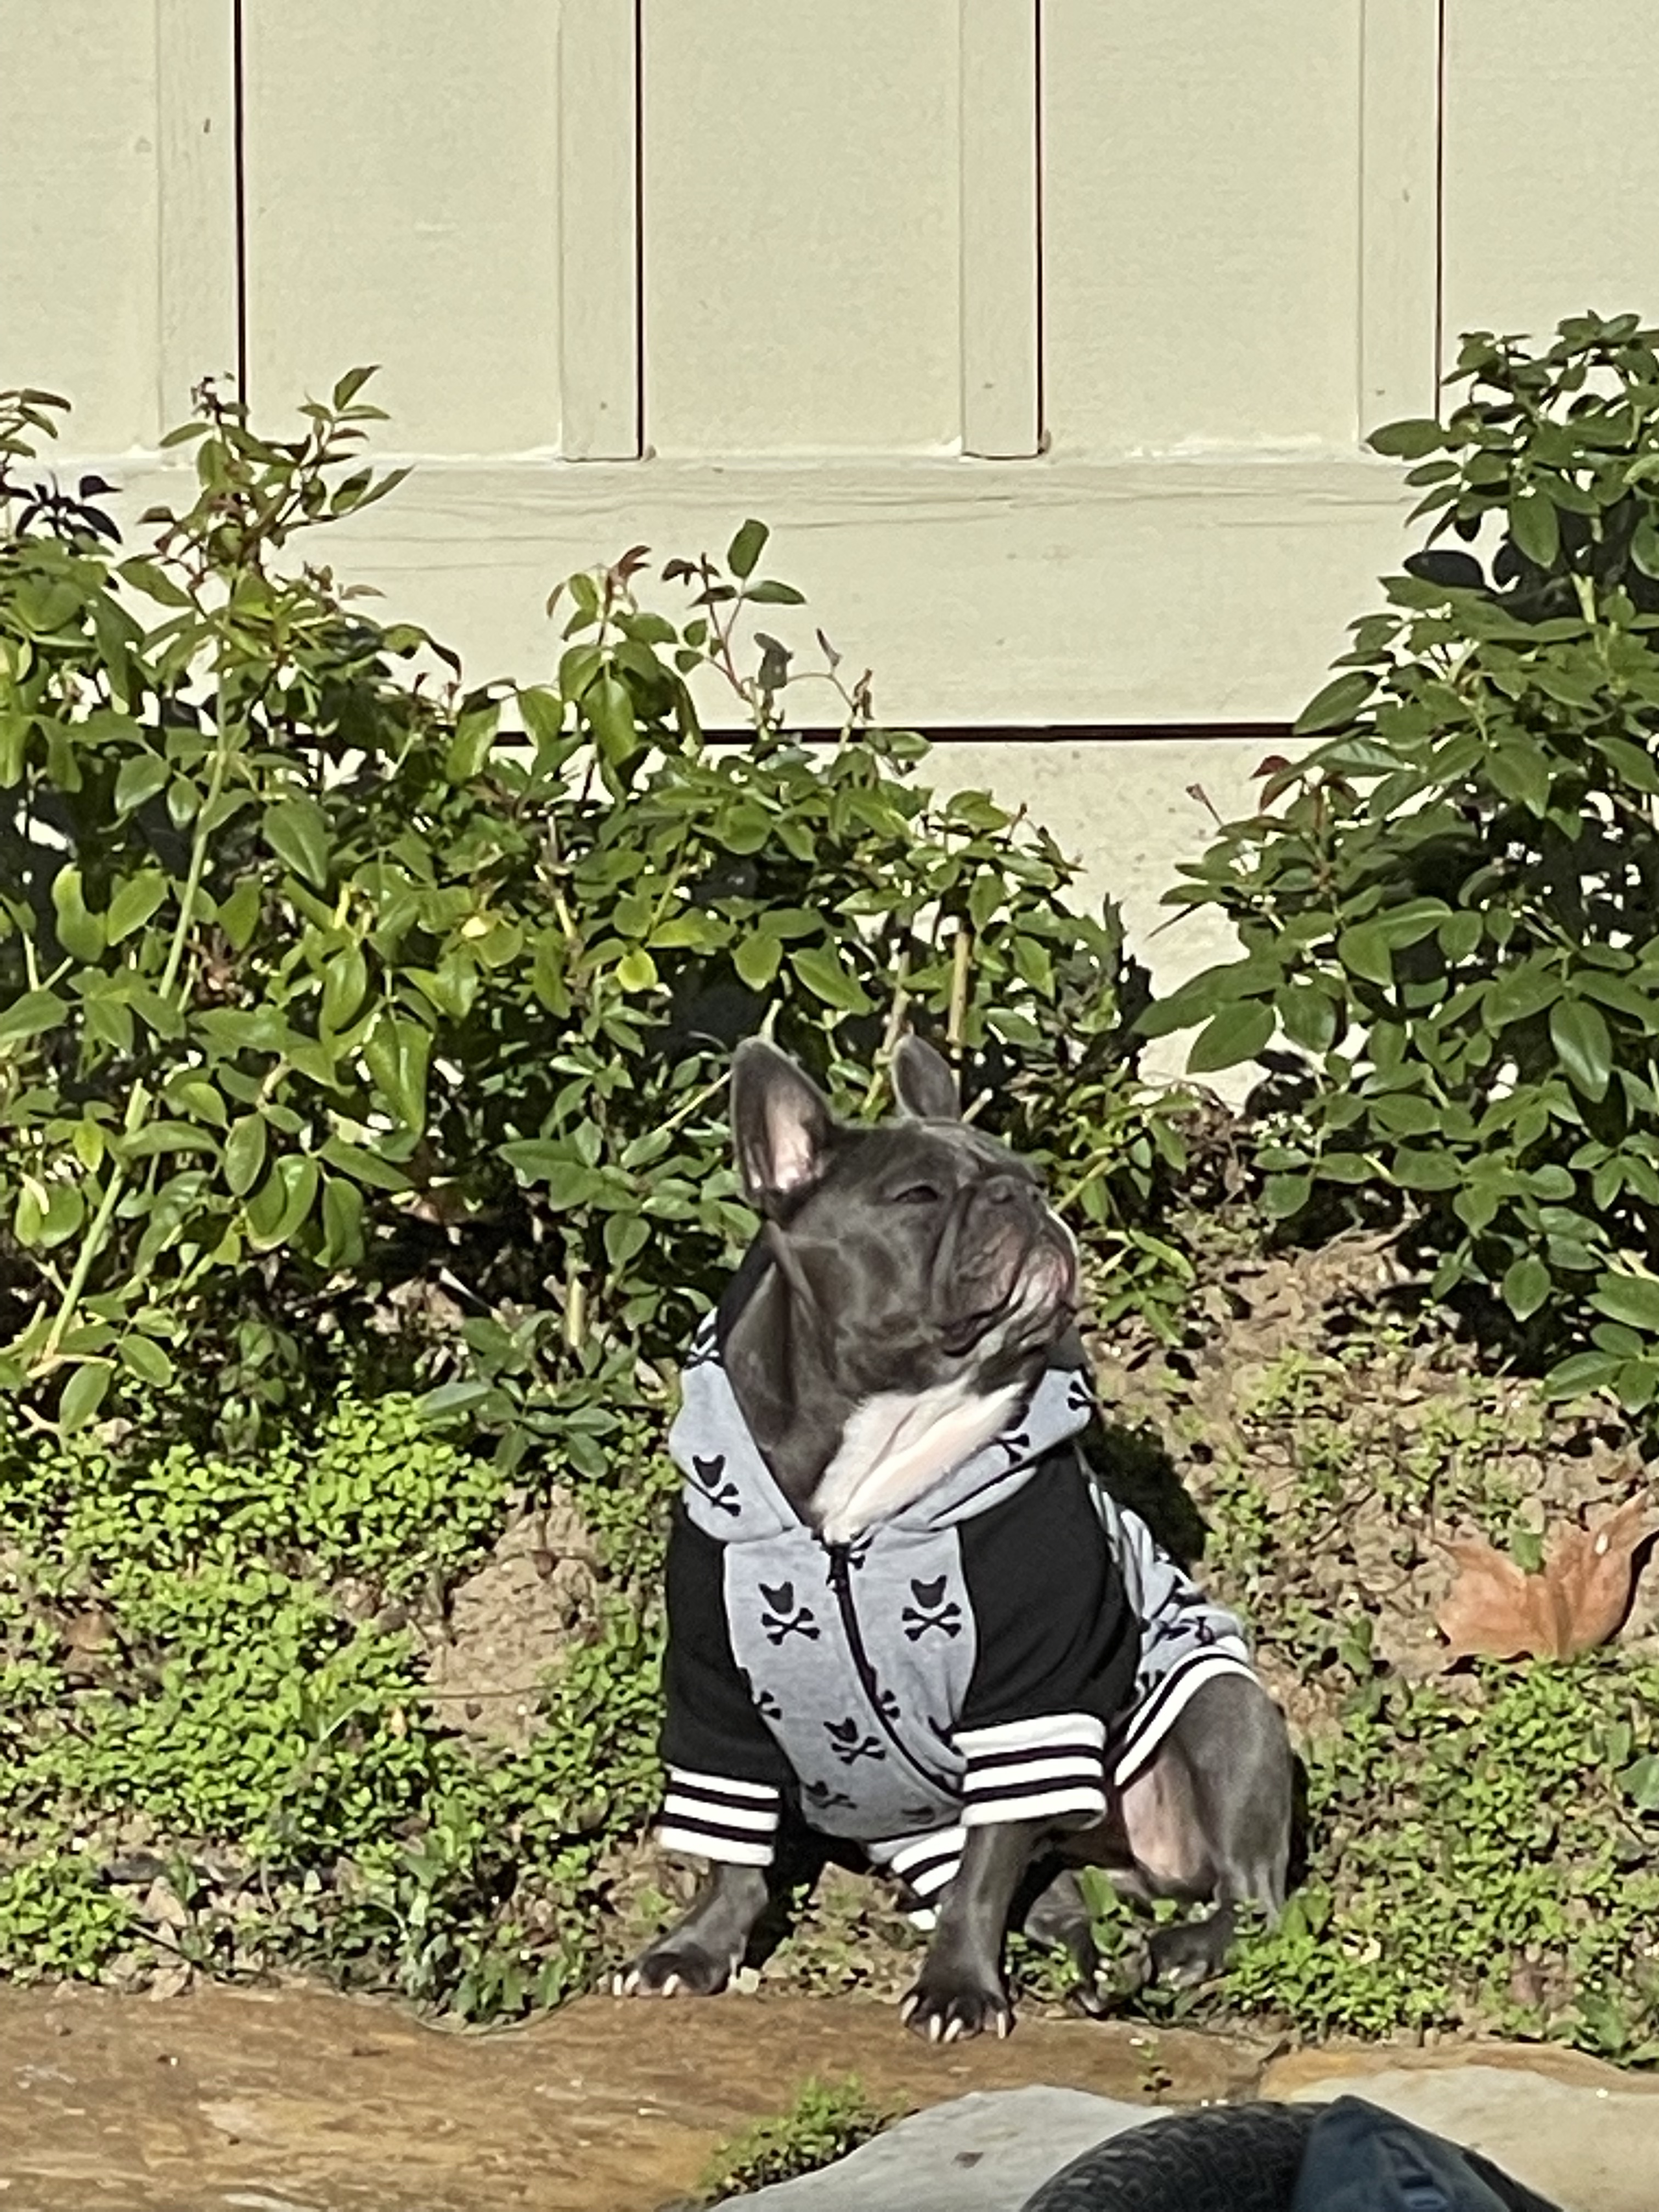lucy: (596, 1026, 1323, 2038)
